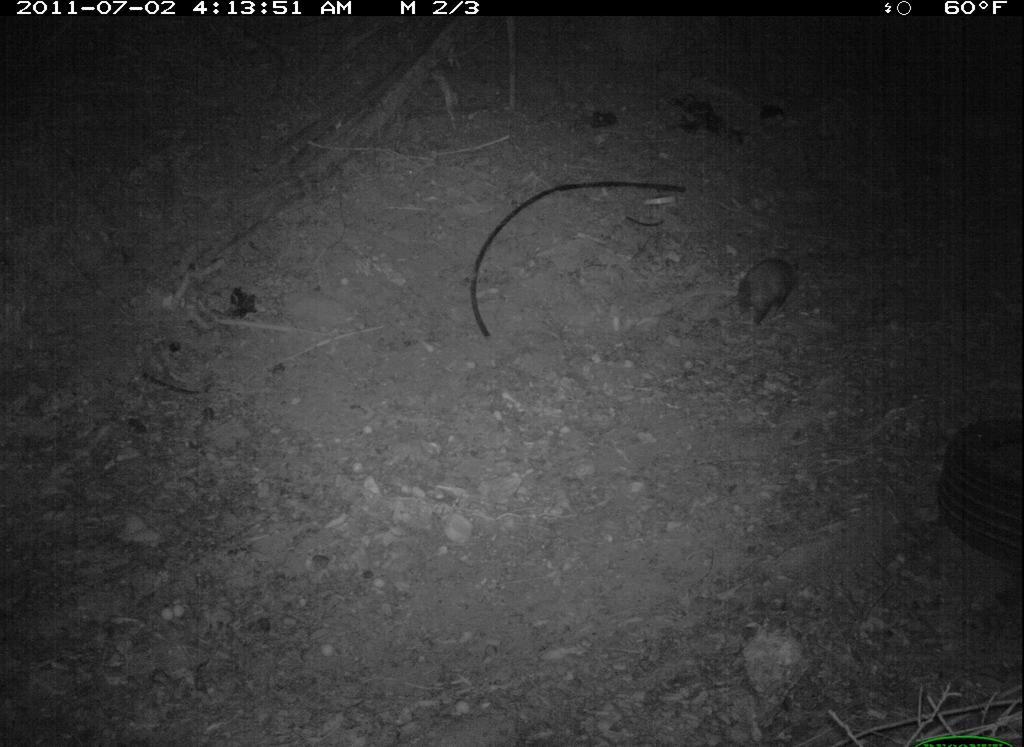opossum: (697, 254, 825, 337)
